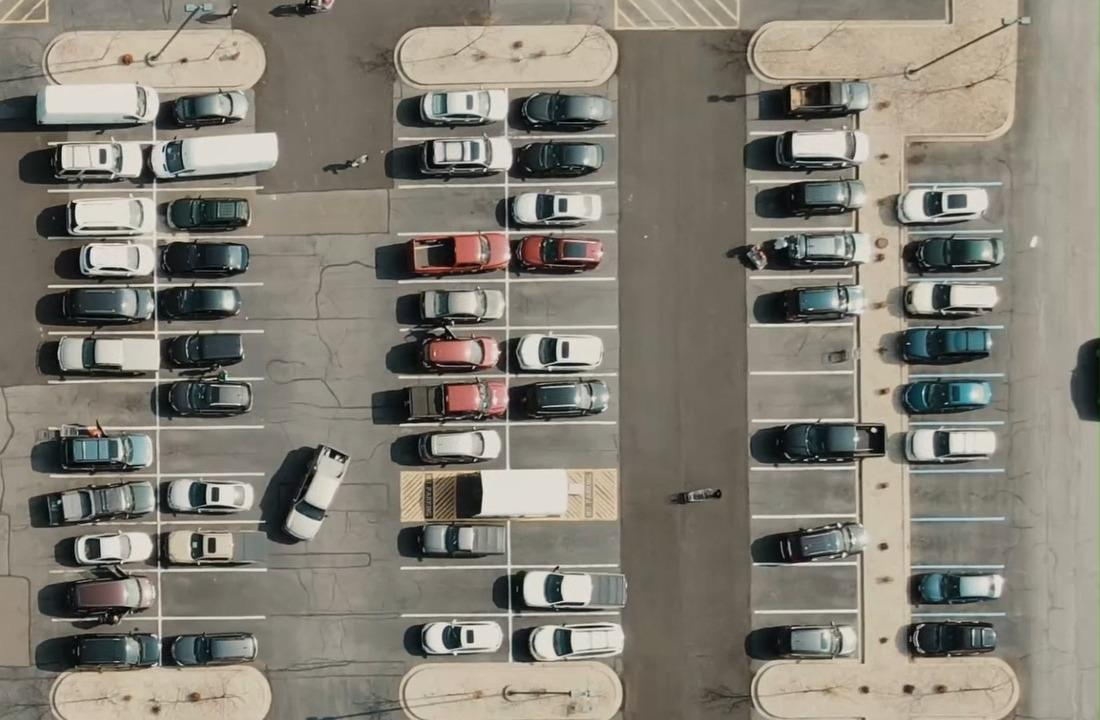car: (280, 443, 350, 541), (146, 131, 279, 181), (749, 420, 886, 466), (492, 568, 628, 611), (45, 420, 153, 473), (34, 82, 159, 126), (42, 479, 155, 526), (750, 520, 868, 564), (406, 231, 511, 277), (64, 567, 156, 619), (401, 378, 509, 422), (754, 178, 866, 219), (512, 621, 625, 661), (753, 283, 864, 323), (744, 622, 857, 661), (511, 377, 610, 420), (902, 232, 1005, 273), (774, 127, 869, 171), (48, 139, 145, 182), (494, 190, 602, 228), (55, 334, 146, 378), (519, 90, 613, 132), (417, 134, 503, 179), (895, 184, 989, 225), (60, 285, 154, 326), (157, 378, 253, 418), (513, 233, 604, 275), (413, 329, 501, 372), (896, 325, 993, 364), (510, 139, 604, 179), (902, 280, 998, 319), (512, 332, 604, 372), (418, 87, 507, 127), (159, 239, 250, 278), (416, 286, 505, 325), (899, 377, 992, 414), (907, 619, 997, 657), (162, 477, 252, 515), (904, 427, 996, 464), (783, 79, 870, 118), (64, 196, 147, 236), (414, 619, 503, 656), (167, 630, 258, 666), (416, 522, 506, 558), (164, 195, 250, 232), (416, 428, 501, 465), (156, 284, 241, 321), (170, 89, 248, 128), (162, 331, 244, 368), (71, 529, 154, 565), (914, 571, 1003, 604), (78, 241, 154, 278)
